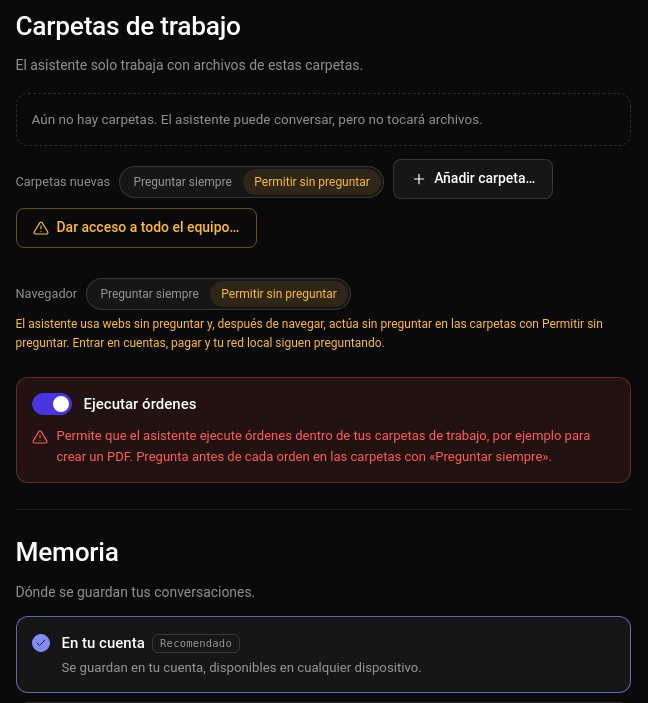
Test: browser permission mode setting › shows the stored allow and goes back to ask
(page scrolled)
Step 1. Click the radio button labelled "Preguntar siempre" next to "Navegador" → (150, 294), box top-left (89, 281), bottom-right (210, 307)
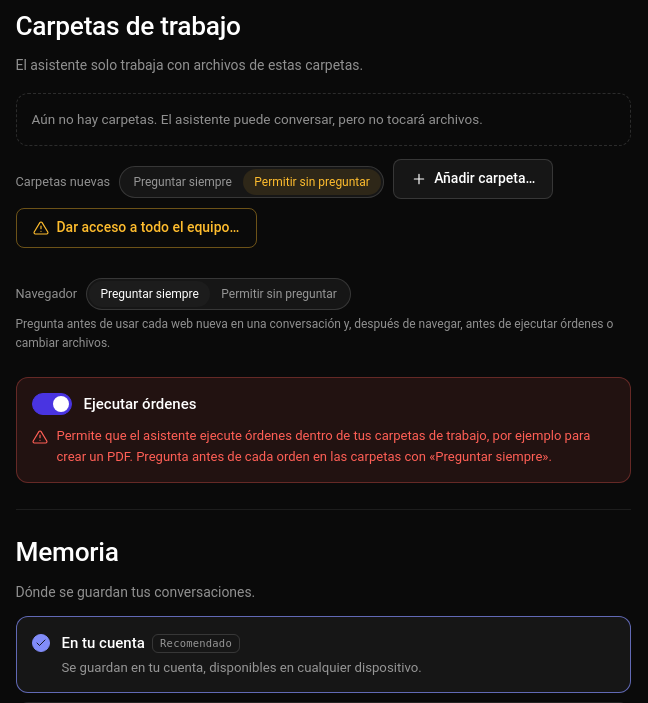
Check: the radio button labelled "Preguntar siempre" next to "Navegador" is checked, box top-left (89, 281), bottom-right (210, 307)
